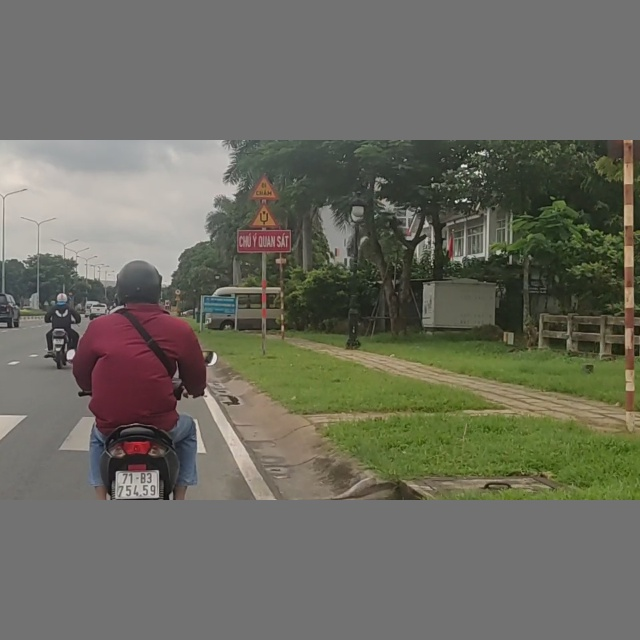P.102: (67, 290, 73, 295)
R.302a: (67, 296, 73, 301)
W.245a: (249, 173, 279, 199)
W.246a: (250, 203, 279, 228)
